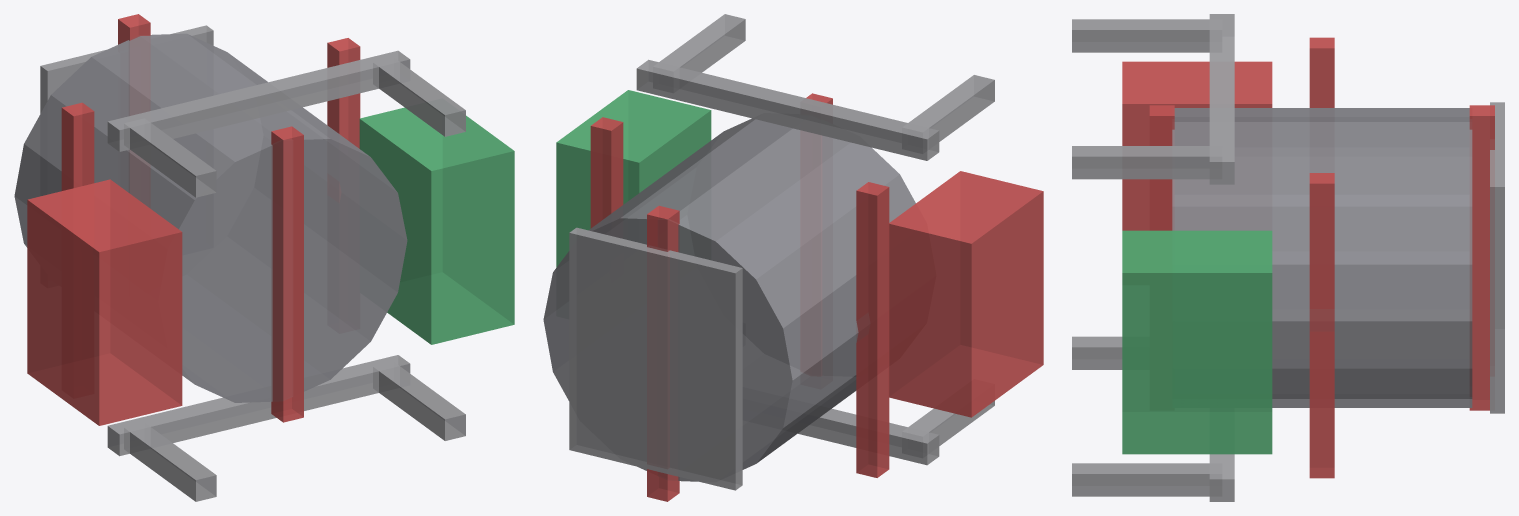
File: magnetic_separator.glb
The picture shows the model from 3 angles, left to right: view 1: azimuth 30°, elevation 25°; view 2: azimuth 150°, elevation 25°; view 3: azimuth 270°, elevation 25°; orthographic projection. The views are drawn at different scales.
Parts seen in each view (by area): view 1: SeparatorDrum, BinMagnetic, BinNonMag, Support_3.5, MagPole_3, Support_-3.5, Leg_3_-3.5, Leg_-3_-3.5, Leg_-3_3.5, Leg_3_3.5, MagPole_1, MagPole_2 (+2 smaller); view 2: SeparatorDrum, FeedTray, BinMagnetic, BinNonMag, Support_3.5, MagPole_2, MagPole_1, MagPole_3, Leg_-3_3.5, MagPole_0, Leg_3_3.5, Support_-3.5 (+1 smaller); view 3: SeparatorDrum, BinNonMag, BinMagnetic, MagPole_0, MagPole_1, Leg_3_3.5, Leg_3_-3.5, Leg_-3_3.5, FeedTray, Support_3.5, MagPole_3, MagPole_2 (+2 smaller).
Part boxes in pixels (x1,y1,x2,y2): SeparatorDrum: [14, 33, 407, 402]; BinMagnetic: [27, 179, 182, 425]; BinNonMag: [359, 107, 514, 344]; Support_3.5: [107, 50, 410, 151]; MagPole_3: [271, 126, 303, 422]; Support_-3.5: [107, 355, 410, 456]; Leg_3_-3.5: [373, 362, 465, 440]; Leg_-3_-3.5: [124, 422, 216, 501]; Leg_-3_3.5: [124, 118, 216, 197]; Leg_3_3.5: [373, 58, 465, 136]; MagPole_1: [118, 14, 150, 207]; MagPole_2: [61, 102, 94, 190]; SeparatorDrum: [543, 118, 915, 481]; FeedTray: [569, 227, 742, 490]; BinMagnetic: [889, 171, 1043, 417]; BinNonMag: [556, 90, 711, 267]; Support_3.5: [636, 59, 939, 160]; MagPole_2: [856, 182, 889, 477]; MagPole_1: [647, 205, 679, 501]; MagPole_3: [801, 93, 832, 375]; Leg_-3_3.5: [902, 75, 994, 153]; MagPole_0: [590, 117, 623, 228]; Leg_3_3.5: [653, 14, 745, 92]; Support_-3.5: [798, 409, 939, 465]; SeparatorDrum: [1172, 108, 1472, 407]; BinNonMag: [1122, 230, 1272, 454]; BinMagnetic: [1122, 61, 1272, 230]; MagPole_0: [1309, 173, 1334, 478]; MagPole_1: [1469, 105, 1494, 410]; Leg_3_3.5: [1072, 146, 1222, 179]; Leg_3_-3.5: [1072, 463, 1222, 496]; Leg_-3_3.5: [1072, 19, 1222, 52]; FeedTray: [1490, 102, 1504, 413]; Support_3.5: [1209, 14, 1234, 184]; MagPole_3: [1149, 105, 1174, 230]; MagPole_2: [1309, 37, 1334, 107].
Size of the model in its own units: 10 by 7.5 by 8.65.
